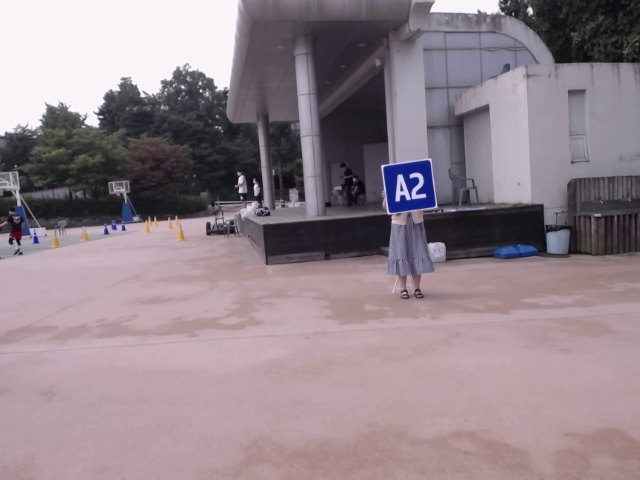delivery_a2: (382, 158, 437, 214)
